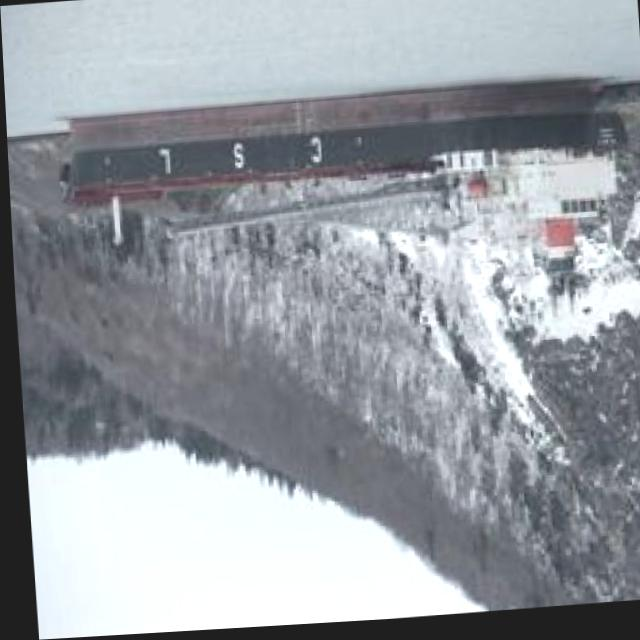ship2: (53, 84, 625, 301)
